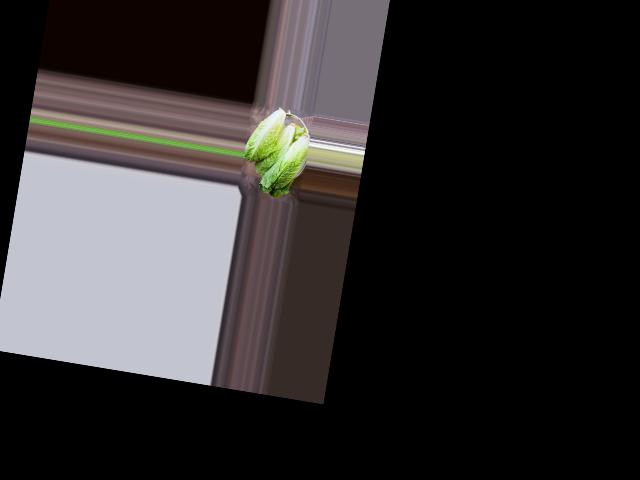lettuce: (257, 122, 312, 199)
